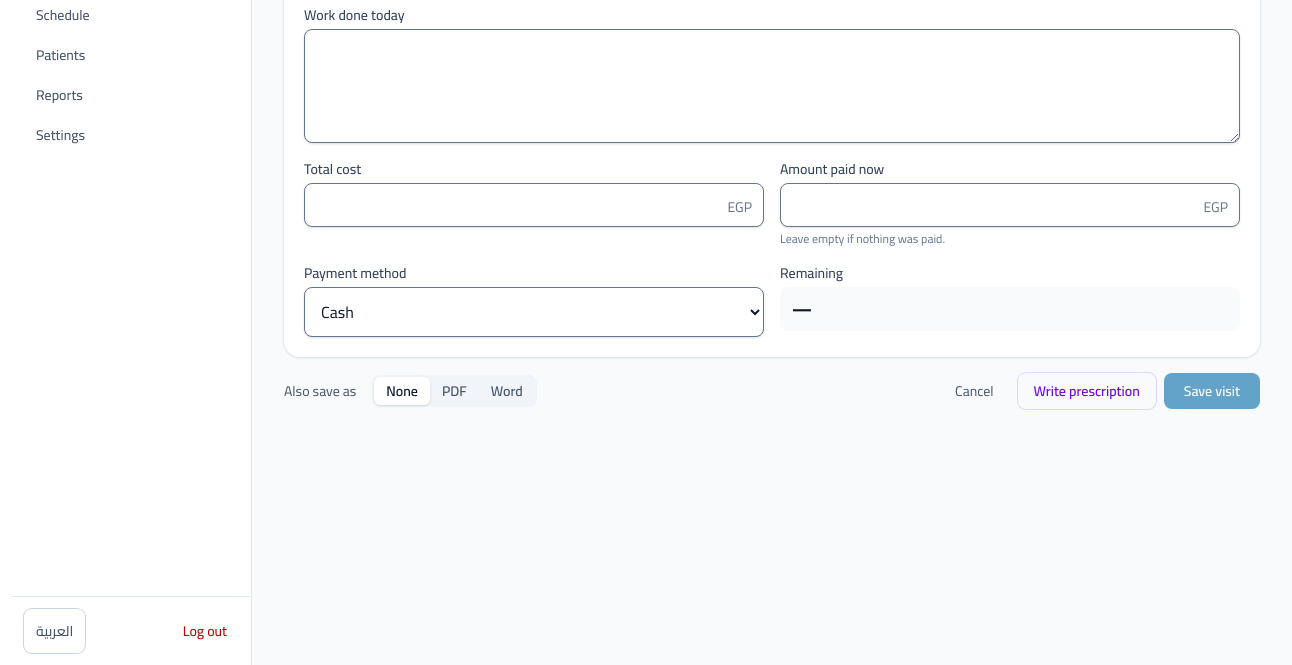
Test: VisitForm › "Write prescription" on a complete visit still writes the prescription first, without saving
Type "Extraction" into the text box labelled "Work done today". click: point(772, 86)
box: [304,29,1240,143]
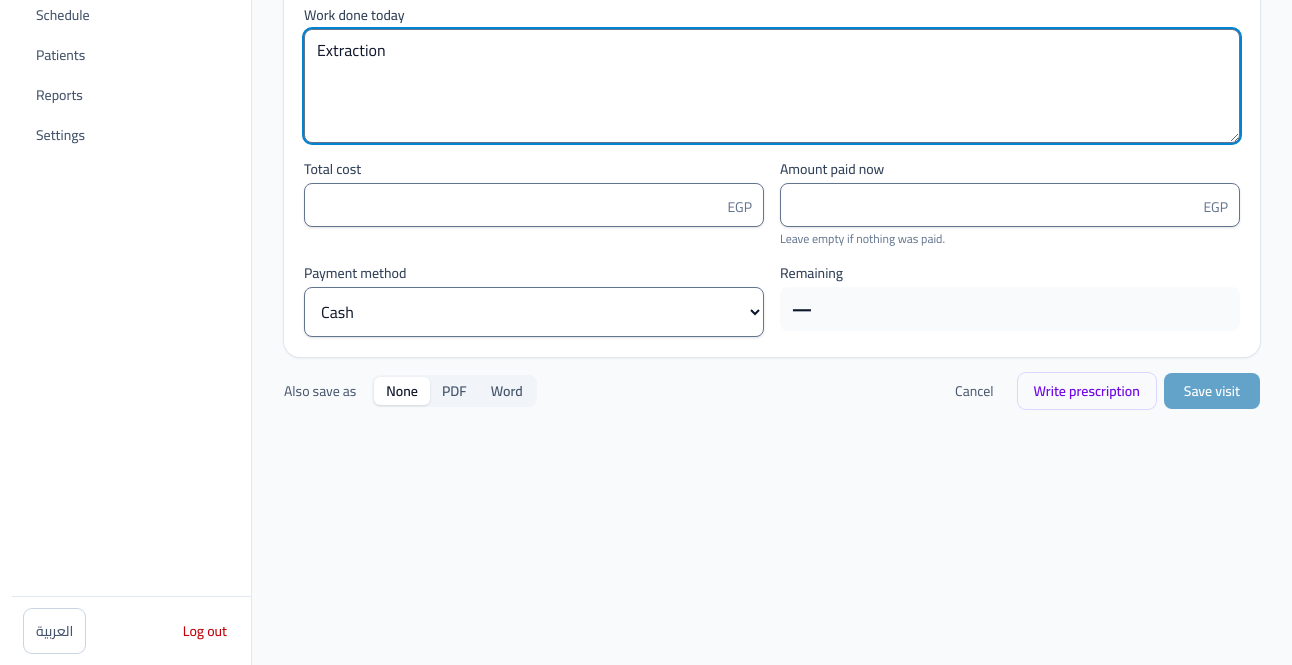
Type "800" into the field labelled "Total cost". click: point(534, 205)
box: [304,183,764,227]
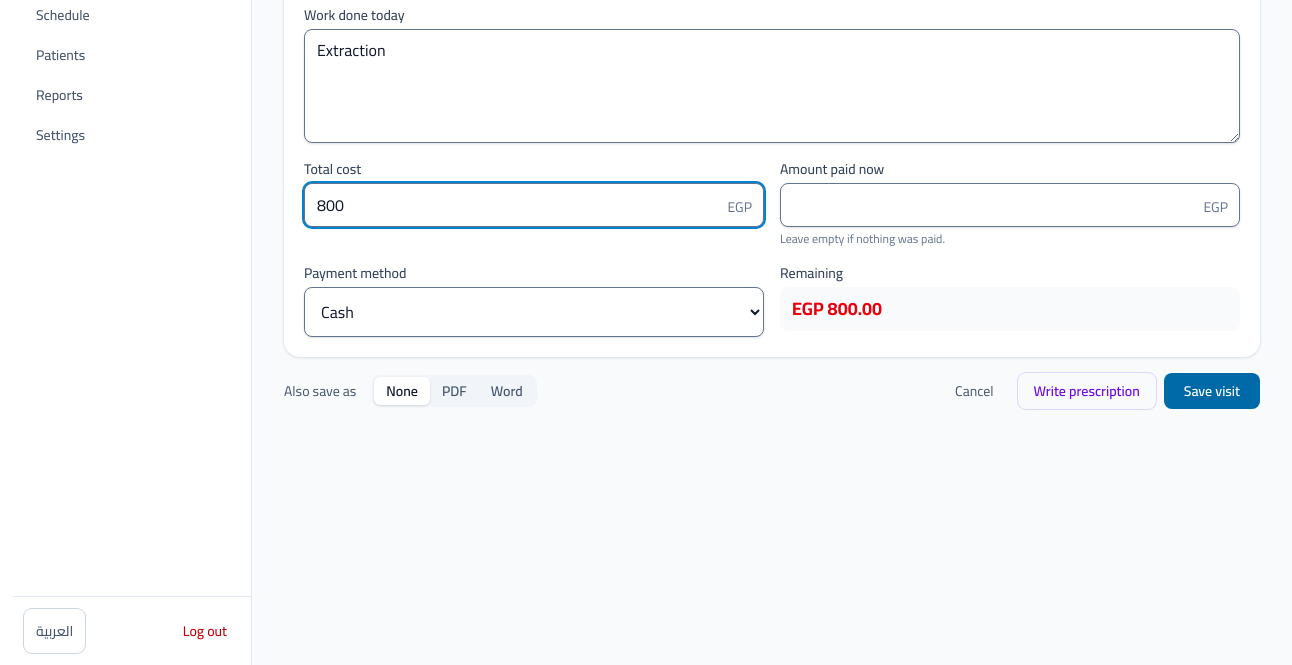
Expected: the button "Save visit" is enabled, [1164,373,1260,409]
Click the button "Write prescription". click: point(1087, 391)
box: [1018,373,1156,409]
(page scrolled)
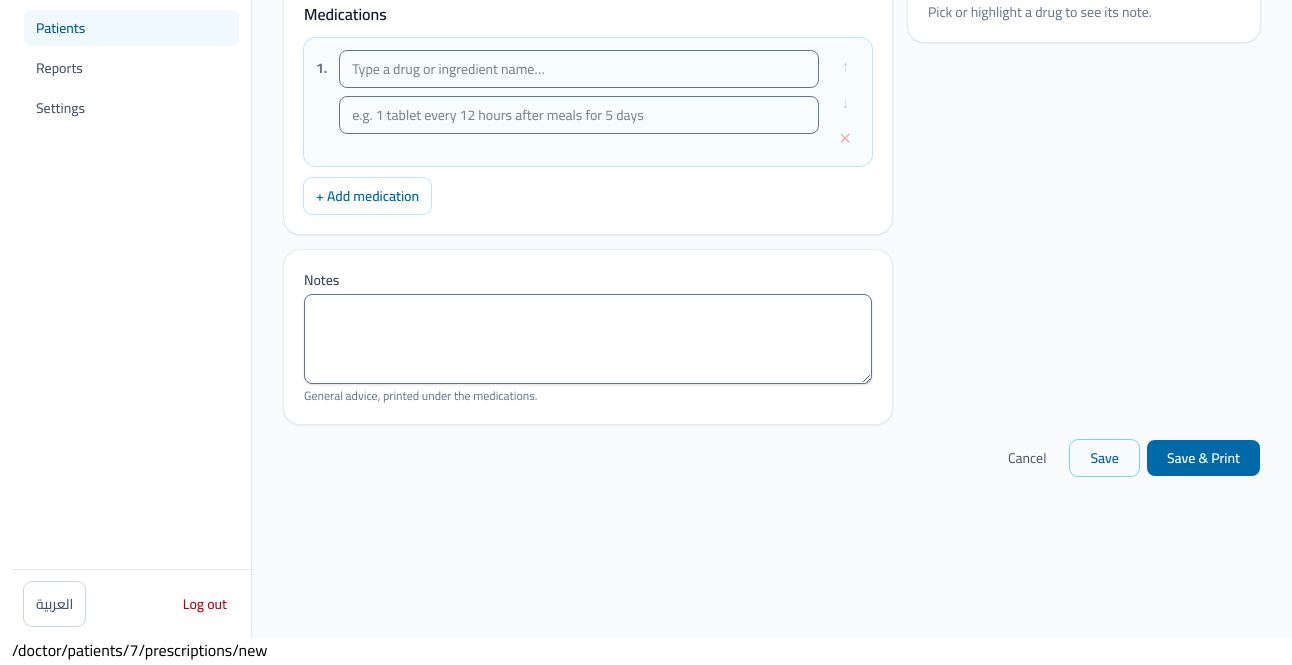
Expected: the text with test id "path" reads "/doctor/patients/7/prescriptions/new", [12,635,267,664]
